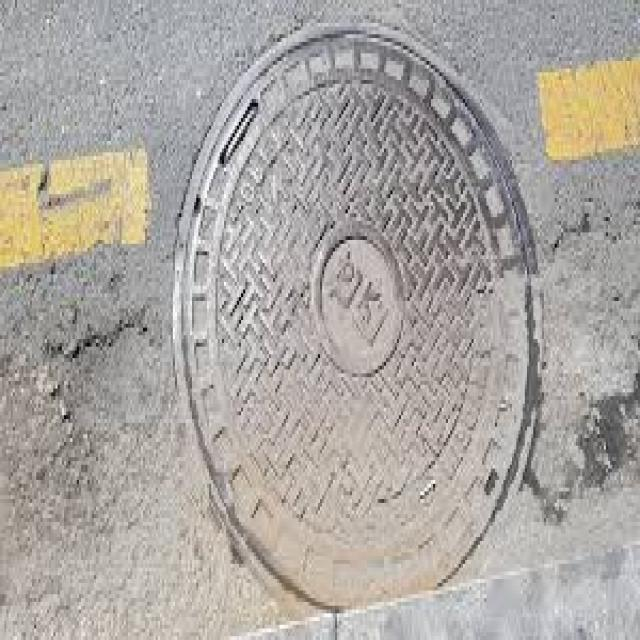Sewer Cover: (160, 9, 553, 640)
